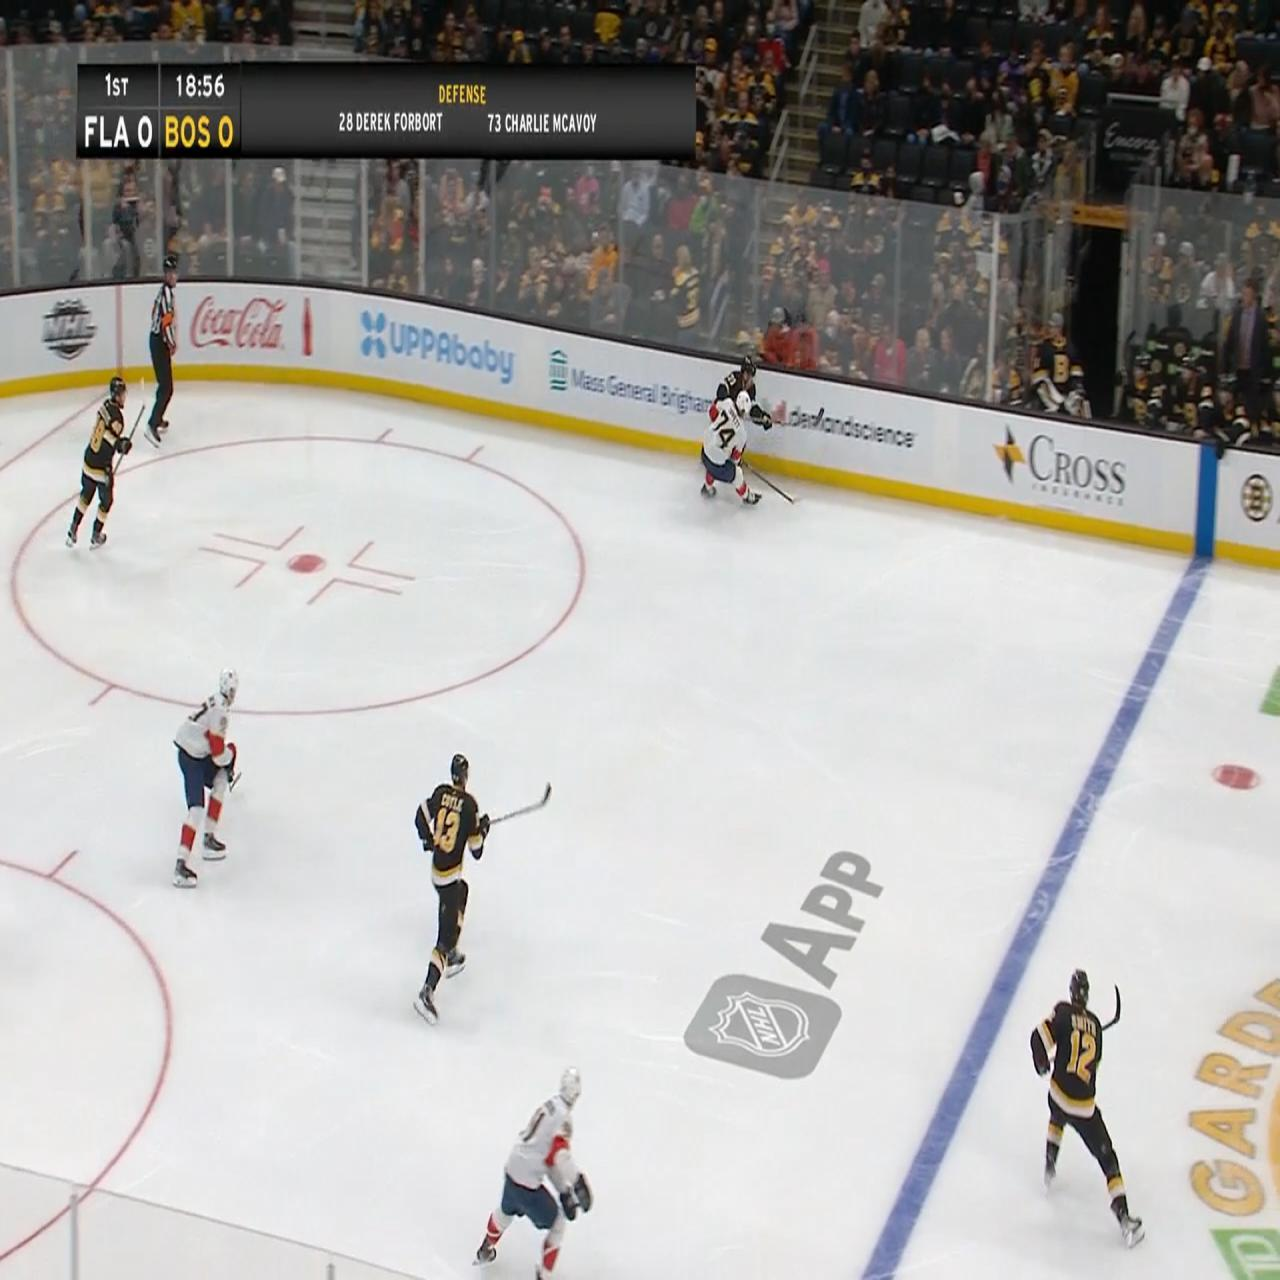Ad: (666, 837, 907, 1076), (546, 336, 714, 429), (362, 299, 518, 388), (992, 417, 1129, 515), (186, 282, 318, 375), (778, 382, 920, 462), (42, 290, 100, 366)
